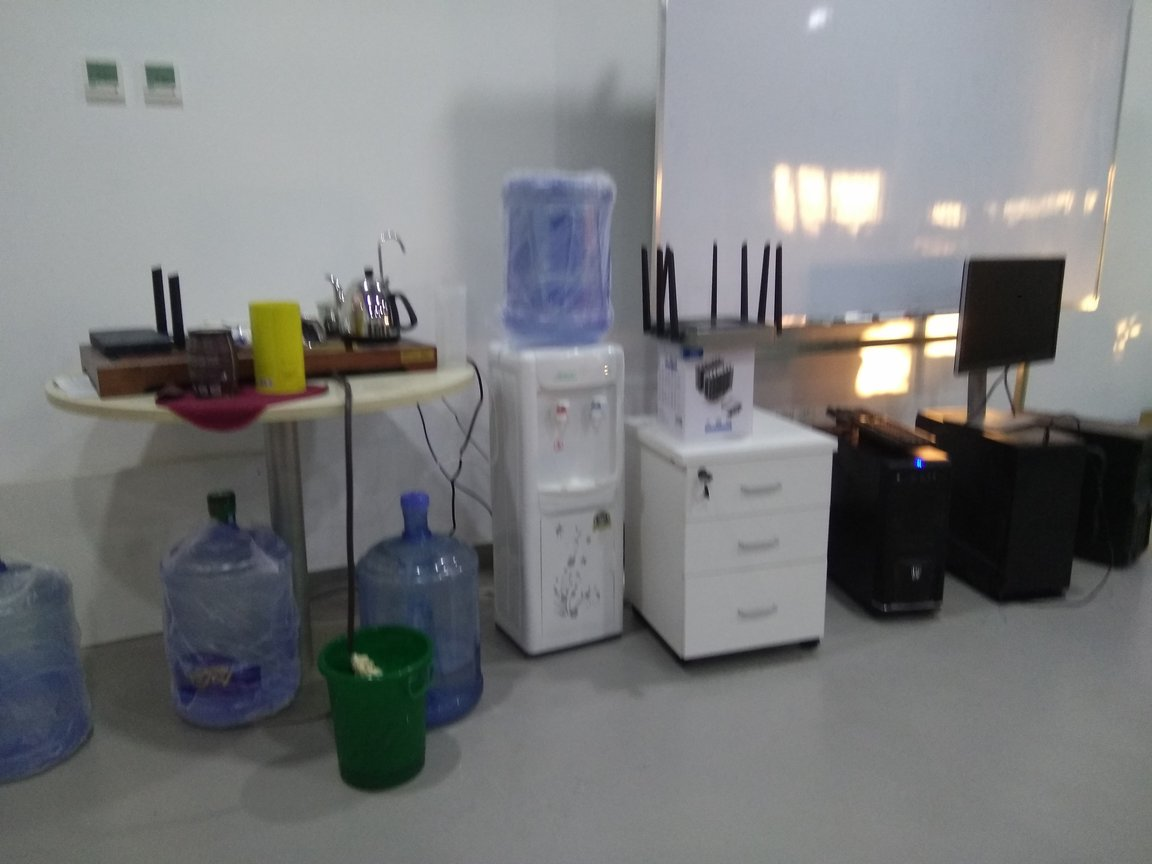computer: (920, 404, 1079, 617), (812, 417, 960, 642)
drawer chest: (617, 405, 839, 678)
monitor: (944, 248, 1078, 429)
scuttlebutt: (167, 485, 303, 728), (359, 490, 486, 731), (1, 559, 101, 792), (499, 167, 624, 351)
water dispenser: (482, 336, 635, 662)
